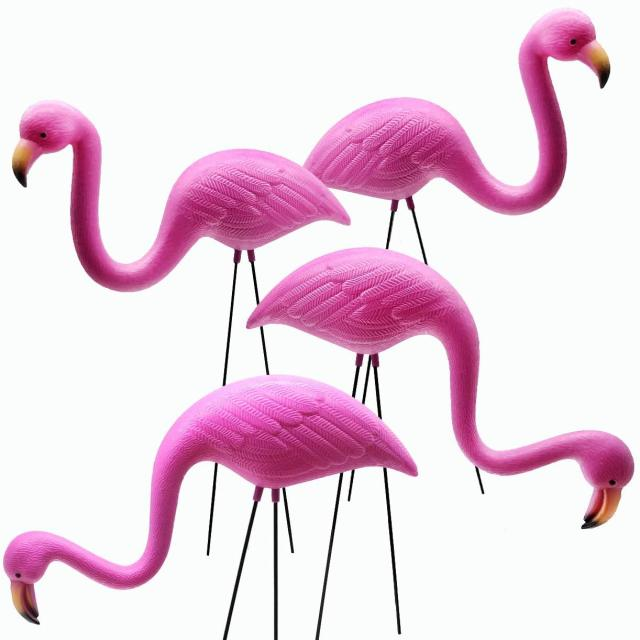Flamingo: (247, 248, 639, 532), (6, 367, 422, 628), (9, 96, 351, 296), (304, 3, 613, 208)
